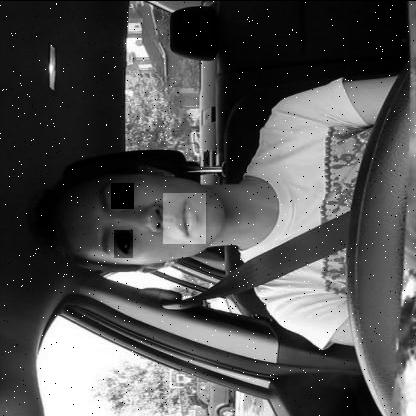seatbelt: (35, 136, 344, 289)
